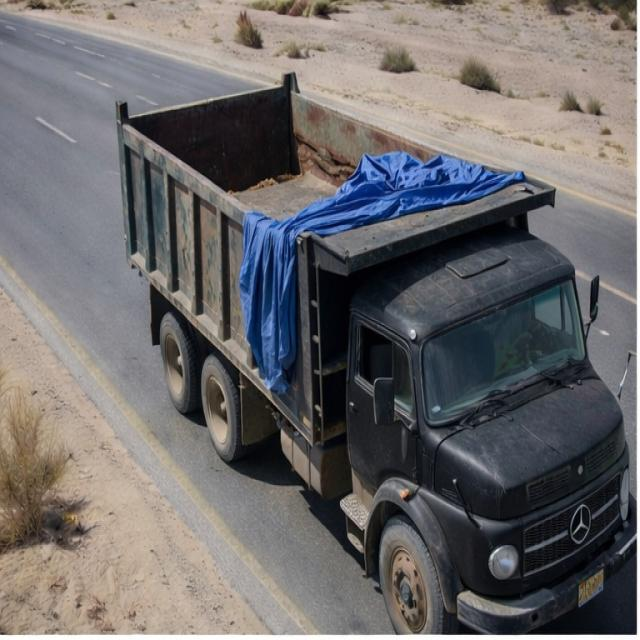trailer: (116, 70, 556, 264)
truck: (102, 47, 638, 628)
